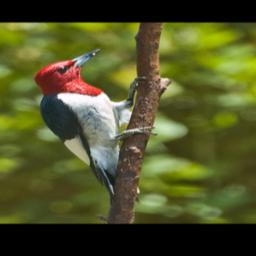Woodpecker: (33, 50, 156, 201)
